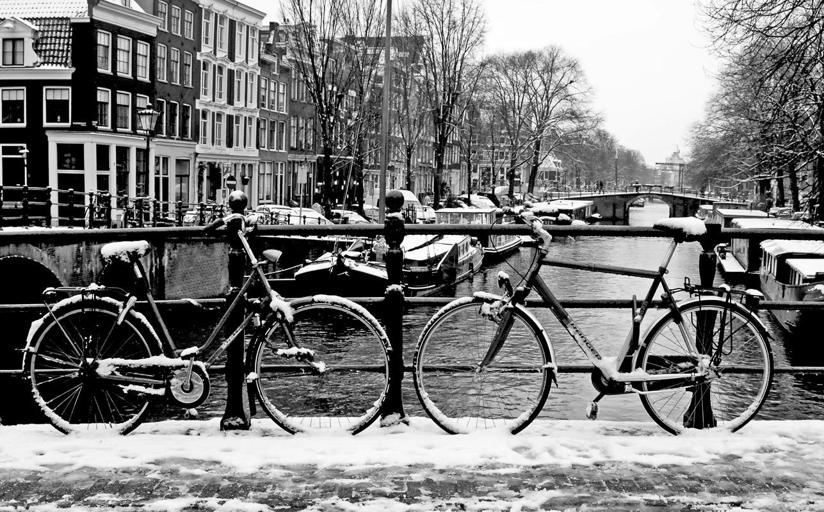non-vehicle: (12, 187, 397, 442), (410, 213, 778, 438)
